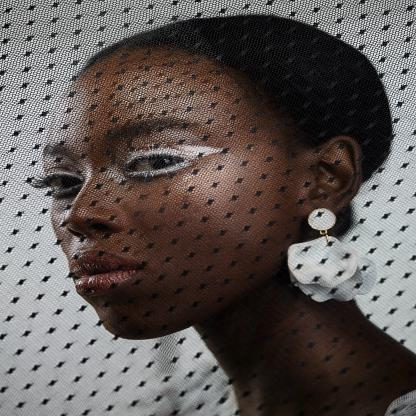Eye: (122, 150, 190, 182), (28, 171, 84, 201)
Mouth: (60, 252, 148, 294)
Nose: (66, 185, 132, 240)
